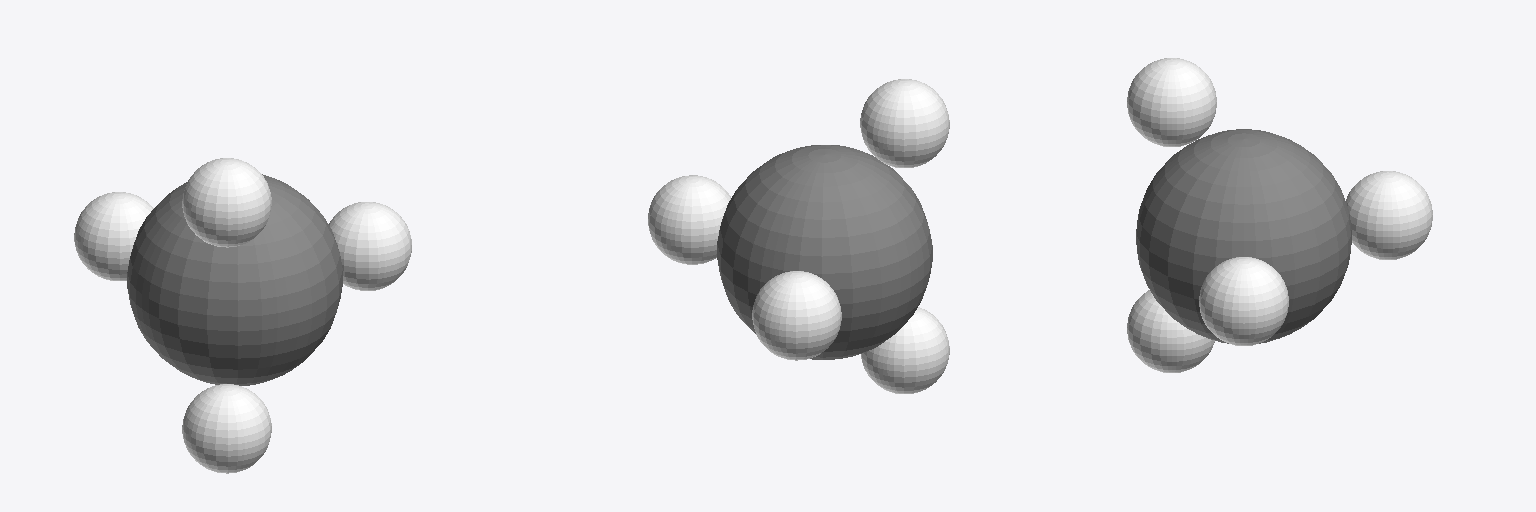
Rendered from blender_export_molecule.obj.
3 renders of one model, left to right at view 1: azimuth 30°, elevation 25°; view 2: azimuth 150°, elevation 25°; view 3: azimuth 270°, elevation 25°, orthographic.
Visible parts, largest first — view 1: Carbon_ball_SurfSphere, Hydrogen_ball_SurfSphere.001; view 2: Carbon_ball_SurfSphere, Hydrogen_ball_SurfSphere.001; view 3: Carbon_ball_SurfSphere, Hydrogen_ball_SurfSphere.001.
Part boxes in pixels (x1,y1,x2,y2): Carbon_ball_SurfSphere: (127,174,342,385); Hydrogen_ball_SurfSphere.001: (74,158,411,473); Carbon_ball_SurfSphere: (717,145,932,359); Hydrogen_ball_SurfSphere.001: (648,79,949,393); Carbon_ball_SurfSphere: (1136,129,1351,343); Hydrogen_ball_SurfSphere.001: (1127,58,1432,372).
Size of the model in its own units: 2.18 by 2.42 by 2.18.